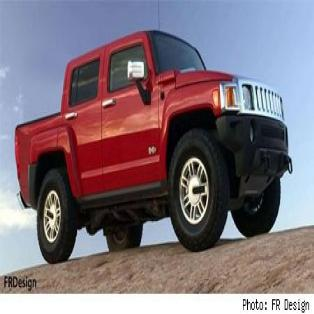Auto: (14, 28, 294, 267)
